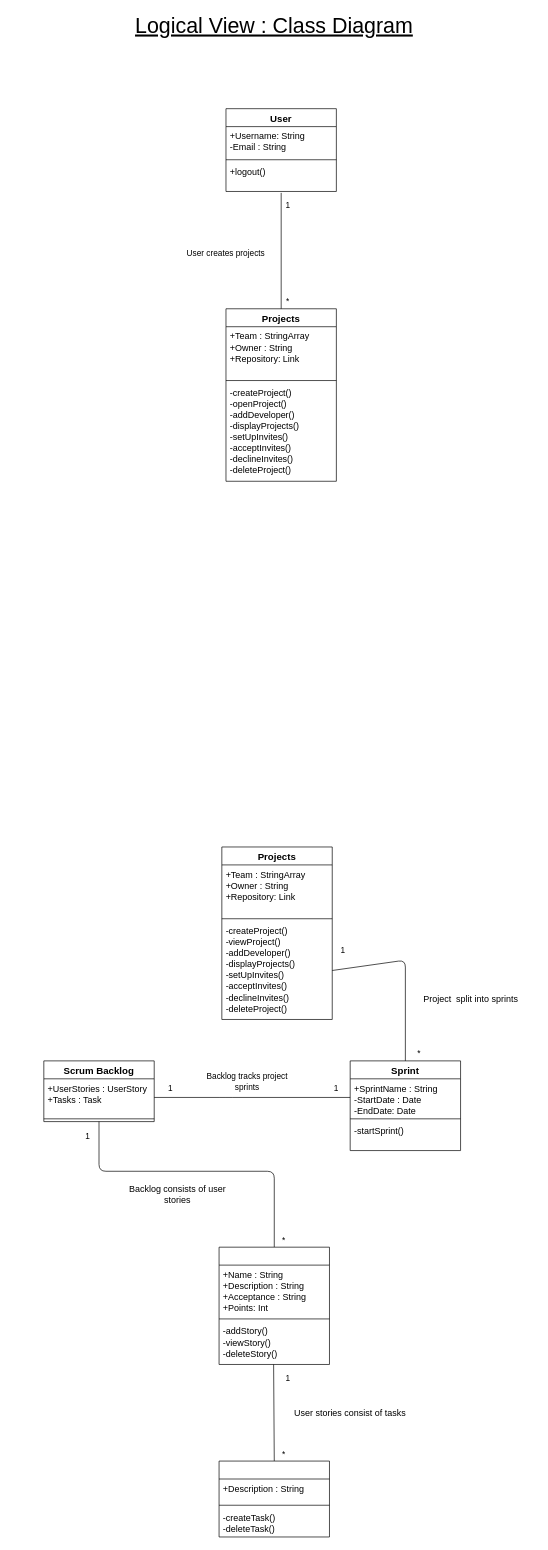
Image size: 548x1550. Some labels were removed from this diagram. The box of each missing label's shape, as (x1, y1, x2, y2) in pixels:
Tasks: (218, 1460, 329, 1537)
UserStory: (218, 1246, 329, 1364)
